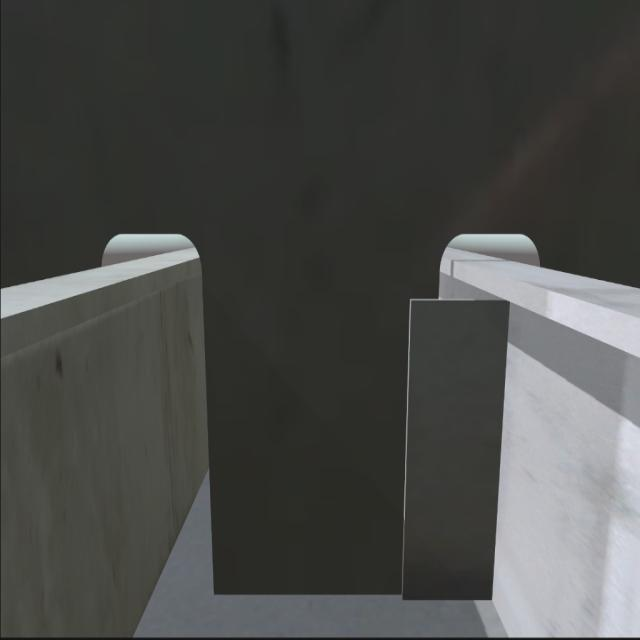fillet_yong_jeop_jang: (210, 583, 503, 608)
longi_yong_jeop_jang: (488, 291, 512, 609)
plate_CP01: (408, 294, 496, 600)
